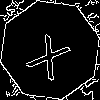X: (25, 25, 78, 82)
